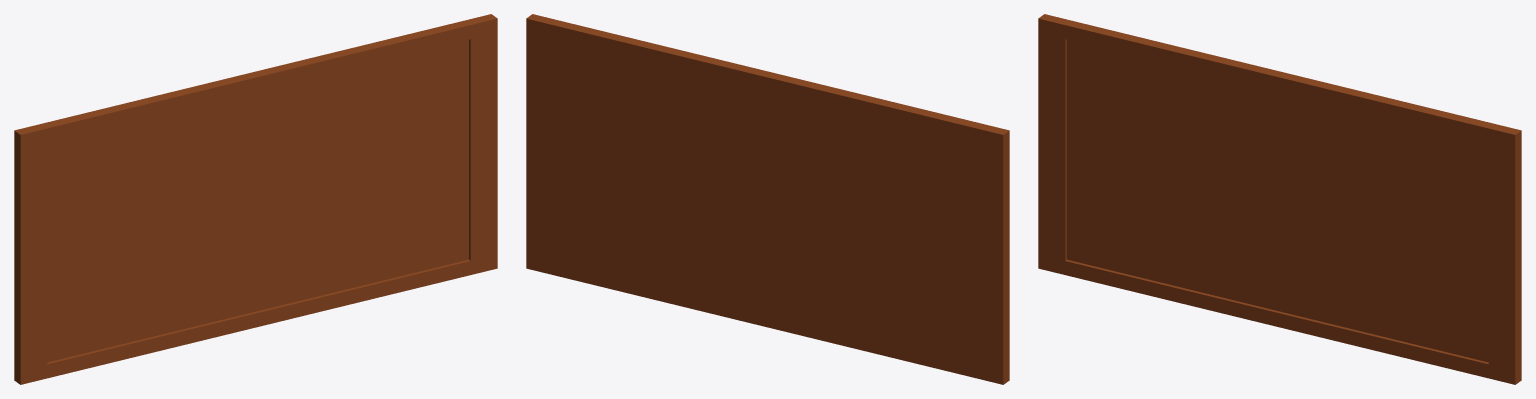
The model's file is Mapa.glb.
3 views of the same model, side by side, from view 1: azimuth 30°, elevation 25°; view 2: azimuth 150°, elevation 25°; view 3: azimuth 330°, elevation 25° (orthographic).
Visible parts, largest first — view 1: Cube; view 2: Cube; view 3: Cube.
Boxes of the visible parts, x1,y1,x2,y2 form: Cube: (14, 14, 497, 384); Cube: (526, 14, 1009, 384); Cube: (1038, 14, 1521, 384).
Size of the model in its own units: 5.39 by 2.7 by 0.123.
